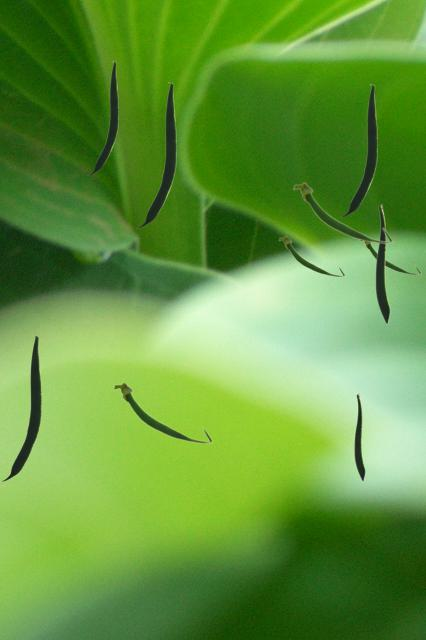french_bean: (112, 381, 212, 443), (292, 181, 392, 243), (1, 335, 40, 480), (136, 82, 175, 227), (340, 84, 376, 216), (87, 61, 117, 174), (278, 235, 344, 276), (359, 240, 420, 274), (375, 204, 389, 323), (354, 393, 364, 480)
